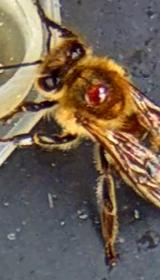varroa_mite: (78, 78, 116, 107)
